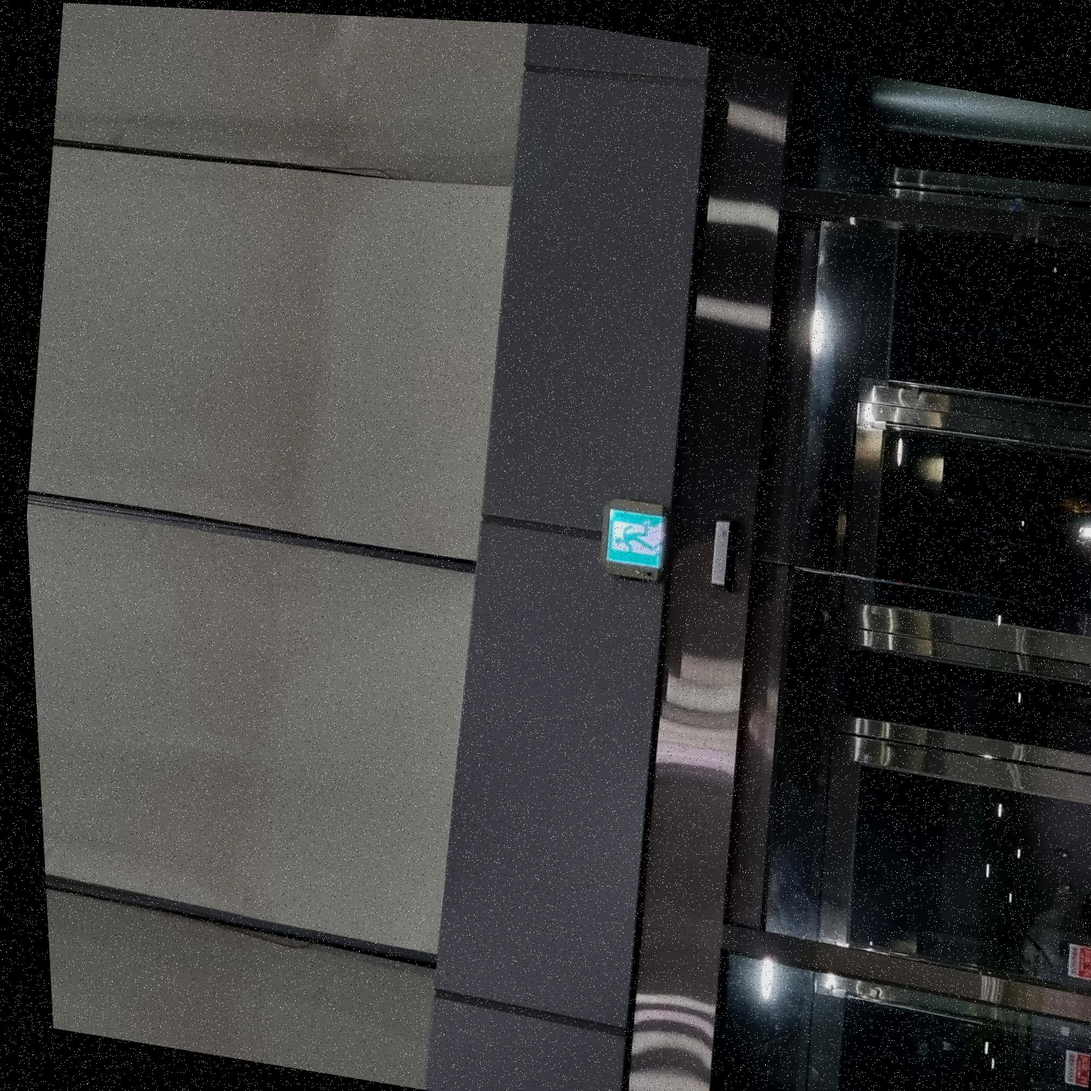emergency_exit: (599, 500, 669, 582)
